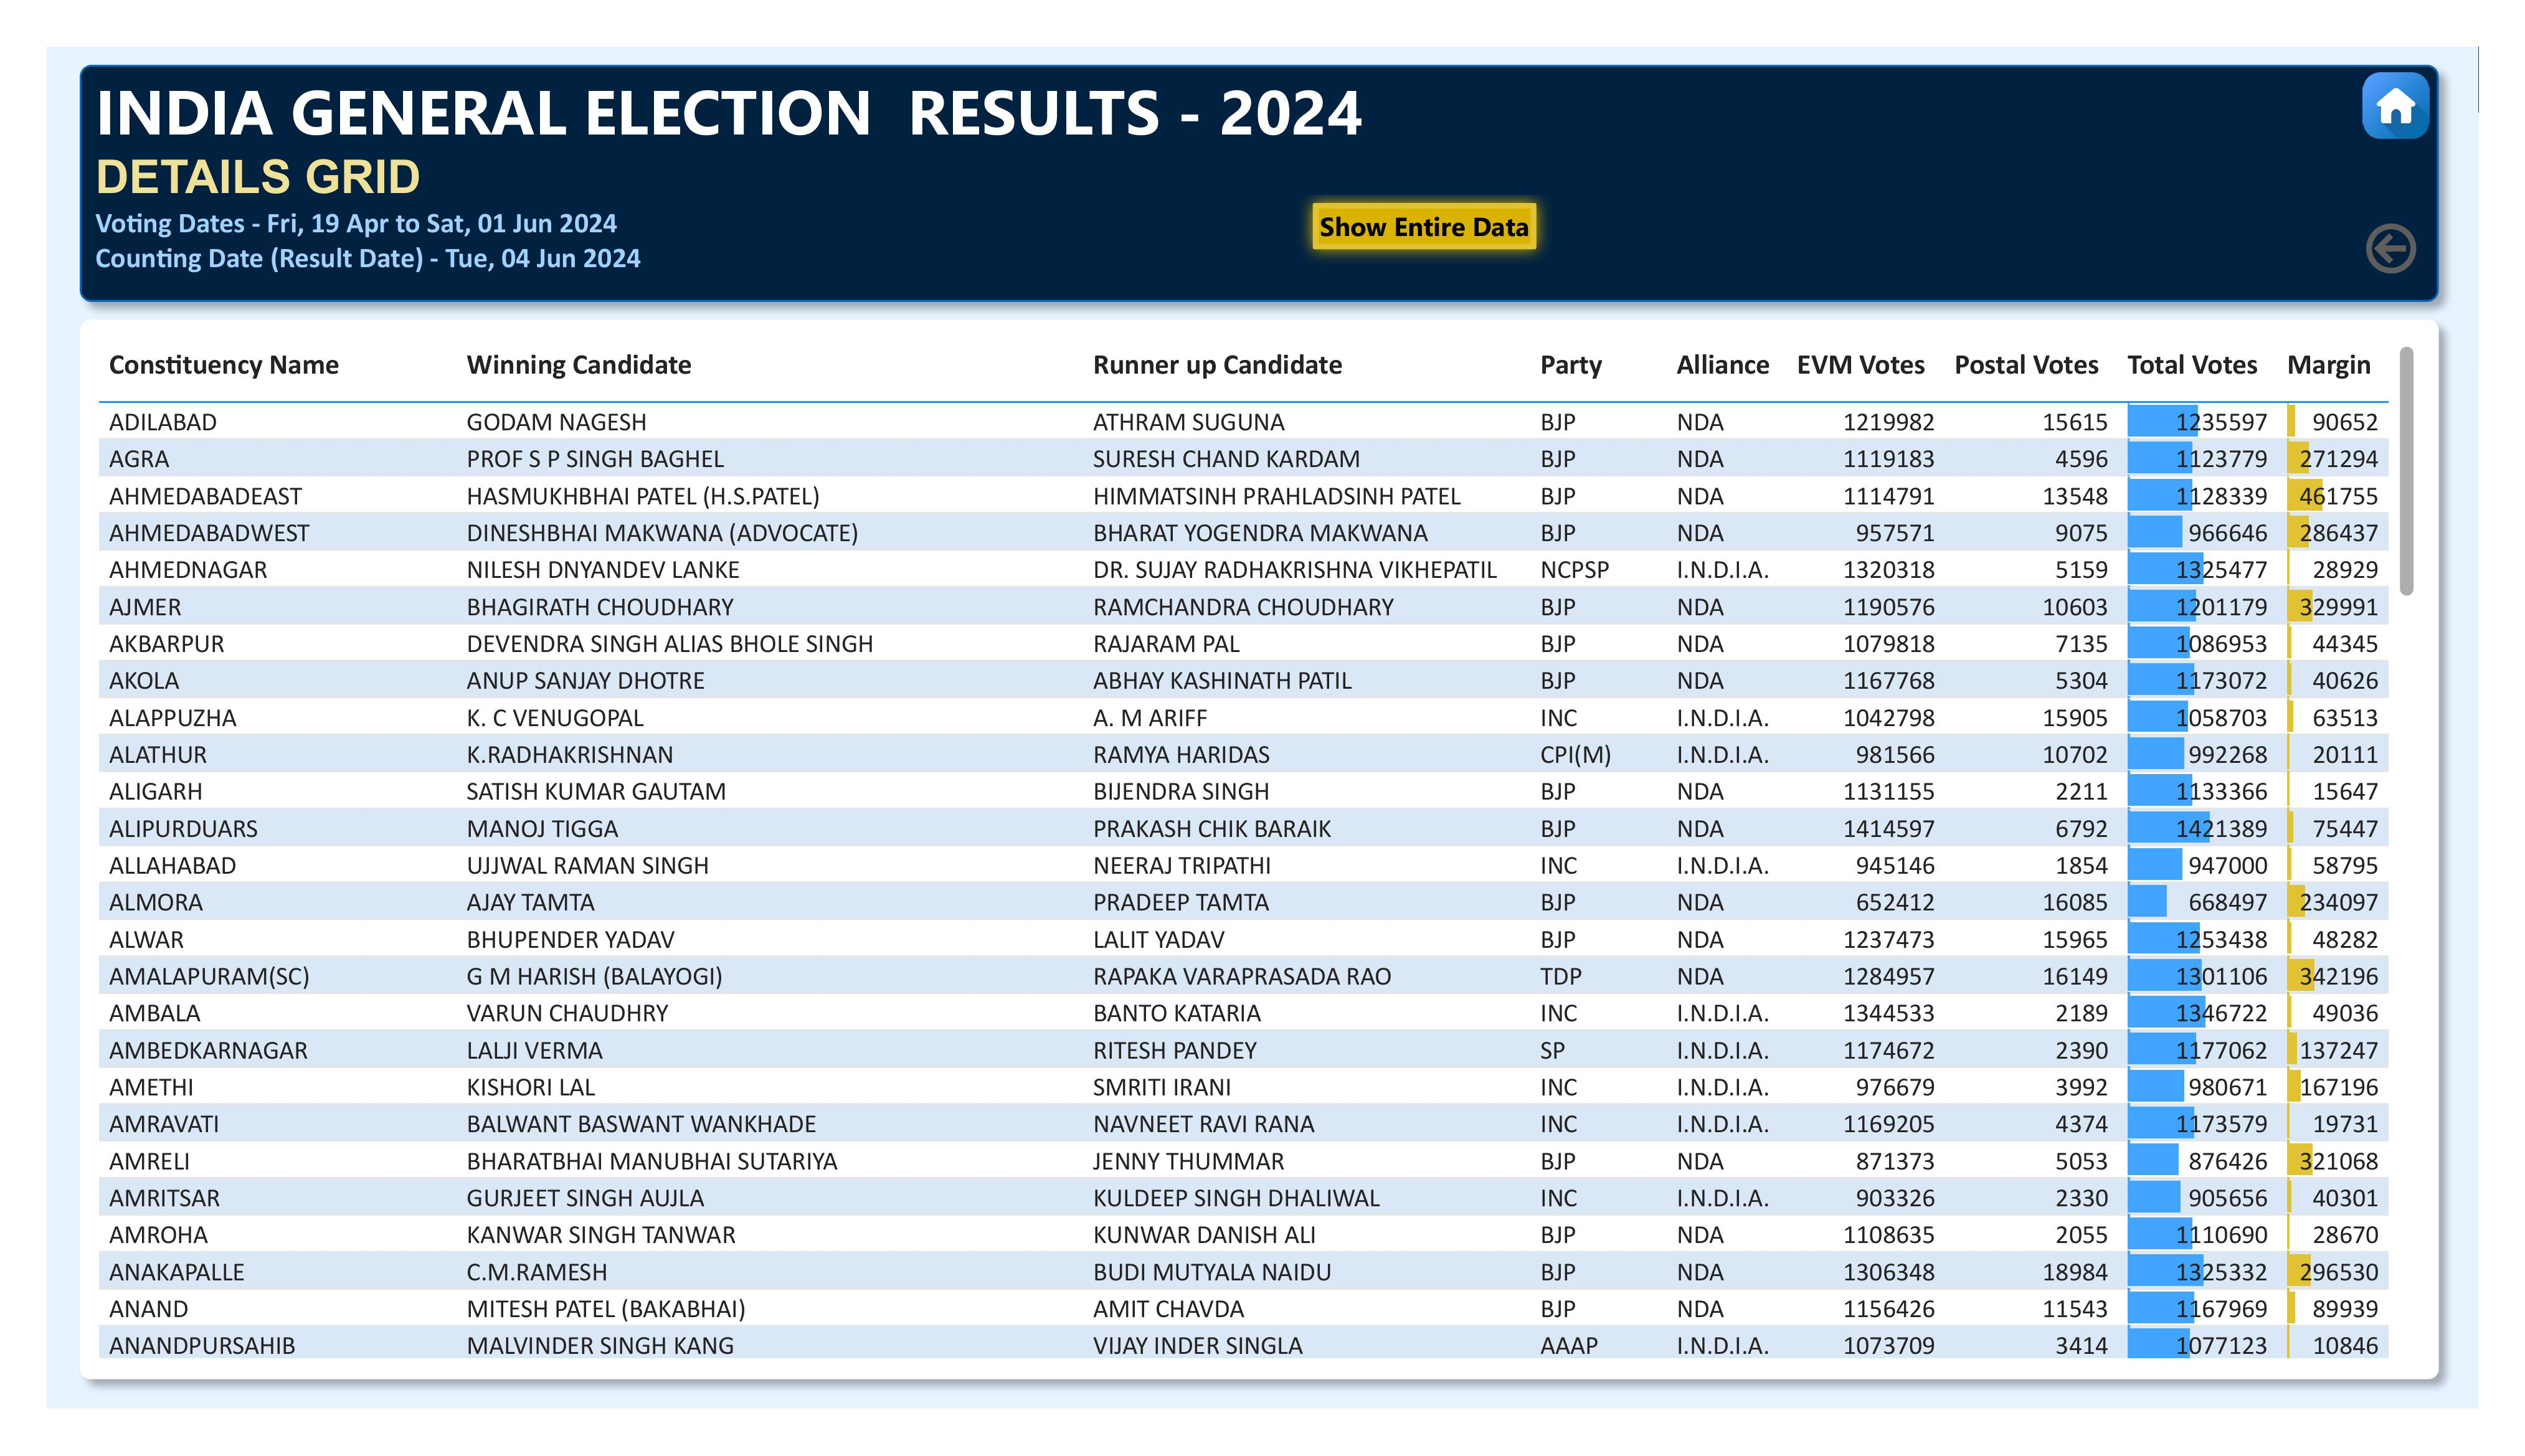

This screenshot's page, from the dashboard's own definition file:
{"tool":"powerbi","page":{"name":"Details Grid","canvas":[1250,700],"ordinal":5},"visuals":[{"type":"shape","box":[9.3,0,1229.8,139.8],"z":0},{"type":"textbox","box":[25.3,5.9,684.8,121.3],"z":1000},{"type":"image","box":[684,14.3,63.2,40.4],"z":2000},{"type":"shape","box":[9.1,136.3,1229.8,559.8],"z":3000},{"type":"image","box":[1176.2,10.2,51,49.9],"z":4000},{"type":"pivotTable","fields":{"Values":["Min(constituencywise_results.Winning Candidate)","constituencywise_details.Runner Up Winning Candidate","Min(constituencywise_results.Party Short Name Constituency Level Srt)","Min(constituencywise_results.Winning_Alliance)","Sum(constituencywise_details.EVM Votes)","Sum(constituencywise_details.Postal Votes)","Sum(constituencywise_details.Total Votes)","Sum(constituencywise_results.Margin)"],"Rows":["constituencywise_results.Constituency Name"]},"box":[32.9,157.8,1181,514.4],"z":5000},{"type":"actionButton","box":[1182.6,81.7,38.7,39.6],"z":6000},{"type":"actionButton","box":[522.5,75.9,200.1,45.3],"z":7000}]}

Visuals, with their boxes on the page's 1250x700 design canvas (x1, y1, x2, y2). These are canvas units, not pixel positions in the 2525x1456 screenshot, which may show the page scaled, cropped or inside an application window:
shape: locate(9, 0, 1239, 140)
textbox: locate(25, 6, 710, 127)
image: locate(684, 14, 747, 55)
shape: locate(9, 136, 1239, 696)
image: locate(1176, 10, 1227, 60)
pivotTable - Min(constituencywise_results.Winning Candidate) x constituencywise_details.Runner Up Winning Candidate: locate(33, 158, 1214, 672)
actionButton: locate(1183, 82, 1221, 121)
actionButton: locate(522, 76, 723, 121)
